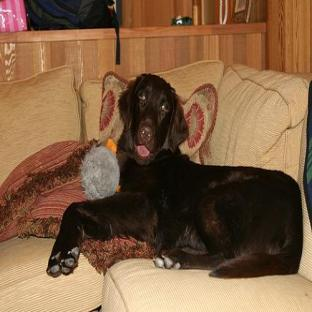Animal: (46, 74, 302, 277)
